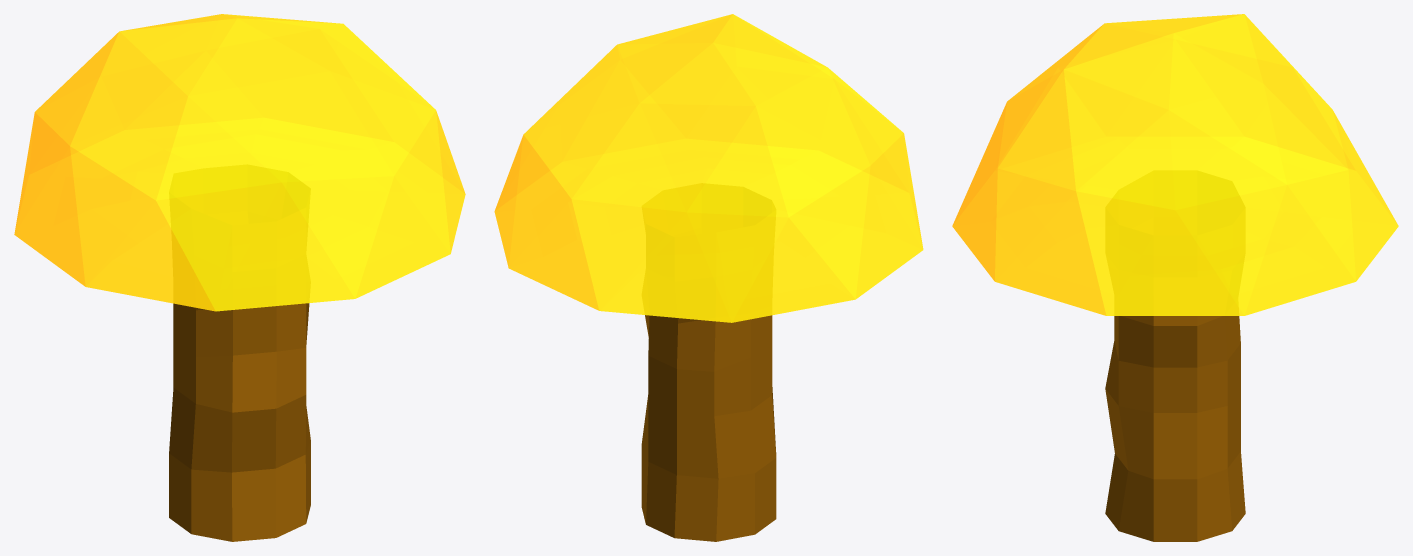
The model's file is ThermoMushroom.fbx.
The picture shows the model from 3 angles, left to right: view 1: azimuth 30°, elevation 25°; view 2: azimuth 150°, elevation 25°; view 3: azimuth 270°, elevation 25°; orthographic projection. The views are drawn at different scales.
Visible parts, largest first — view 1: Icosphere; view 2: Icosphere; view 3: Icosphere.
Part boxes in pixels (bbox=[...]): Icosphere: bbox=[14, 14, 465, 541]; Icosphere: bbox=[494, 14, 923, 541]; Icosphere: bbox=[952, 14, 1398, 541].
Bounding box in the file's own units: 190 × 237 × 200.
